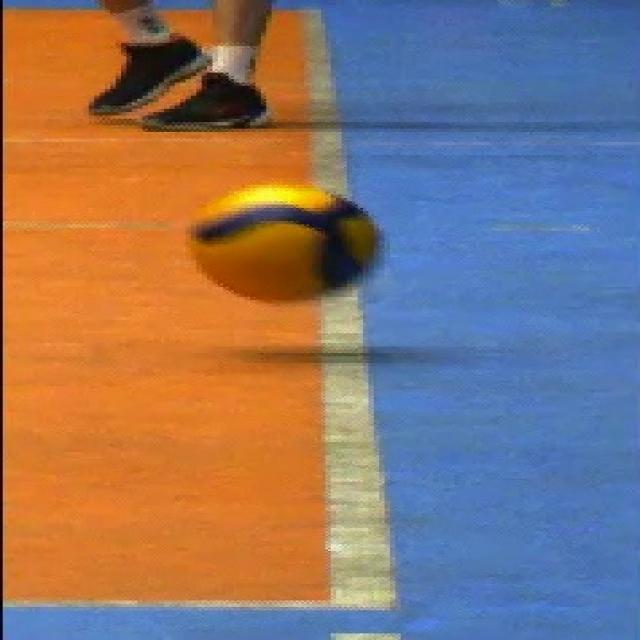Volleyball: (182, 180, 387, 304)
